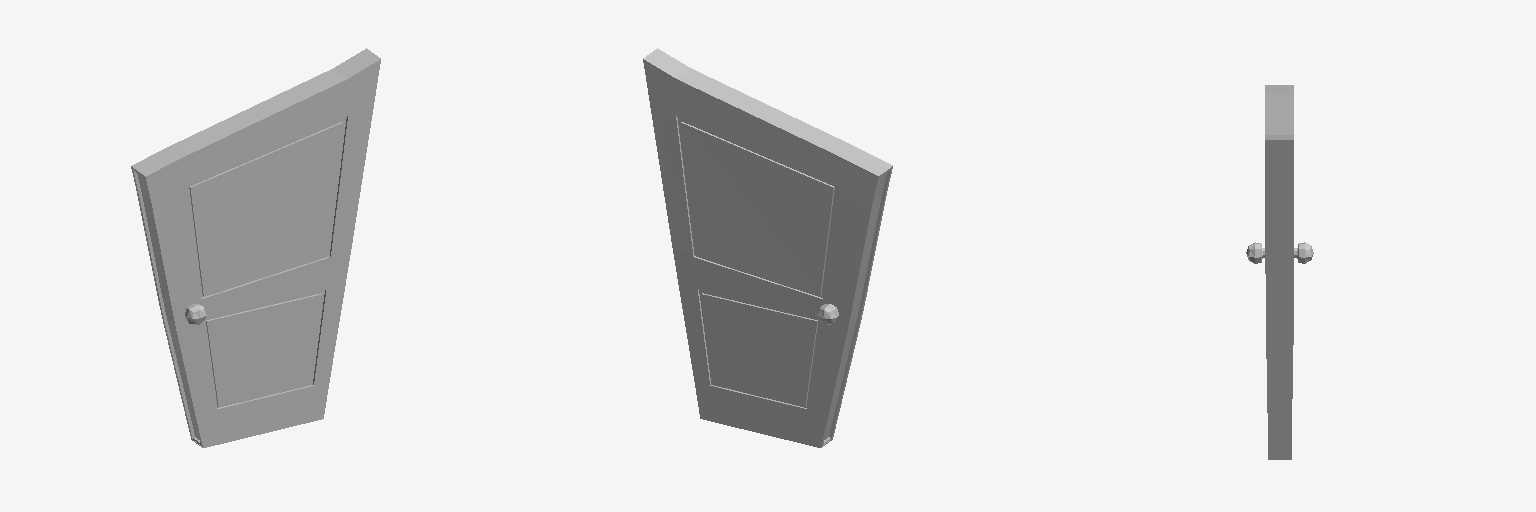
File: PBR - Metallic Roughness.obj
3 renders of one model, left to right at view 1: azimuth 30°, elevation 25°; view 2: azimuth 150°, elevation 25°; view 3: azimuth 270°, elevation 25°, orthographic.
Visible parts, largest first — view 1: g pCube1_pCube1; view 2: g pCube1_pCube1; view 3: g pCube1_pCube1, g pCube4_pCube4.
Boxes of the visible parts, box(x1,y1,x2,y2) form: g pCube1_pCube1: box(131, 48, 380, 447); g pCube1_pCube1: box(643, 48, 892, 447); g pCube1_pCube1: box(1265, 85, 1293, 459); g pCube4_pCube4: box(1246, 242, 1313, 263).
Size of the model in its own units: 2.62 by 3.69 by 0.6488.